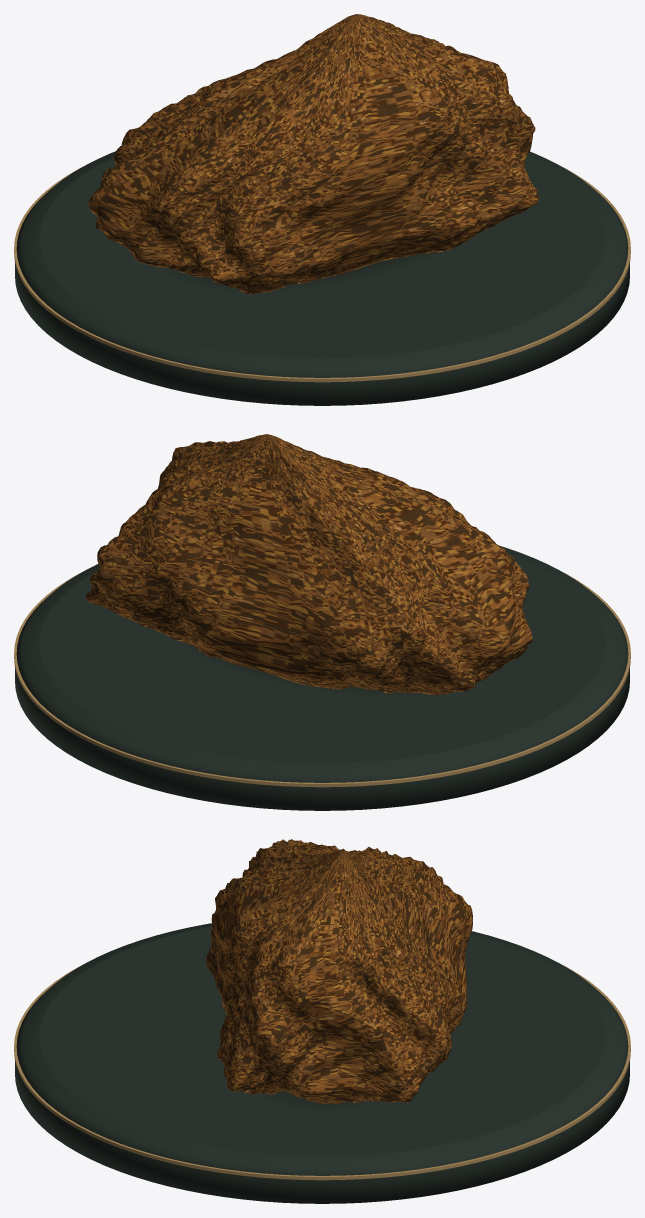
File: lingstone-concept-09-v191-5d9dc0b22b0a.glb
The picture shows the model from 3 angles, top to bottom: view 1: azimuth 30°, elevation 25°; view 2: azimuth 150°, elevation 25°; view 3: azimuth 270°, elevation 25°; orthographic projection.
Visible parts, largest first — view 1: XY-CONCEPT-009 concept stone, Centered beveled display plinth, Champagne gold edge; view 2: Centered beveled display plinth, XY-CONCEPT-009 concept stone, Champagne gold edge; view 3: Centered beveled display plinth, XY-CONCEPT-009 concept stone, Champagne gold edge.
Boxes of the visible parts, x1,y1,x2,y2 form: XY-CONCEPT-009 concept stone: (88, 14, 538, 294); Centered beveled display plinth: (15, 151, 629, 405); Champagne gold edge: (14, 168, 630, 382); Centered beveled display plinth: (15, 546, 629, 810); XY-CONCEPT-009 concept stone: (86, 434, 532, 695); Champagne gold edge: (14, 573, 630, 787); Centered beveled display plinth: (15, 923, 629, 1203); XY-CONCEPT-009 concept stone: (206, 839, 472, 1103); Champagne gold edge: (14, 966, 630, 1180).
Size of the model in its own units: 2.63 by 1.16 by 2.63.
Materials: 4 (1 with a texture image).
